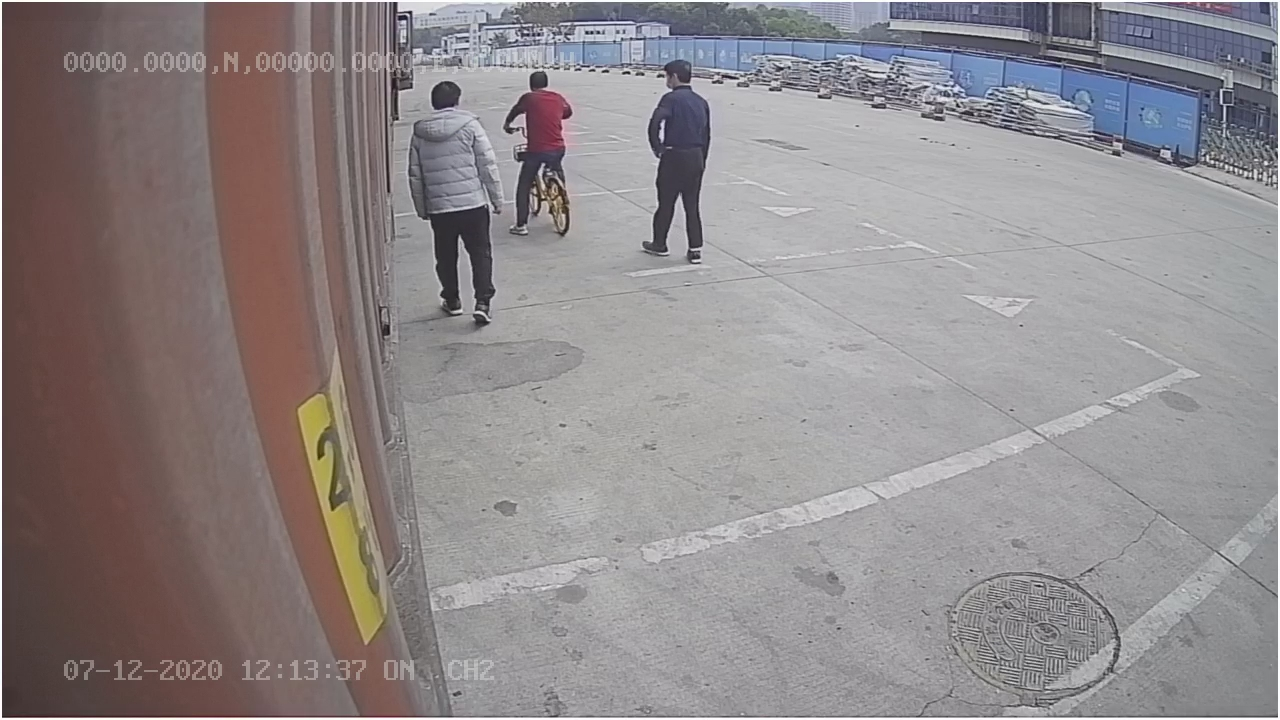person: (406, 73, 504, 324)
